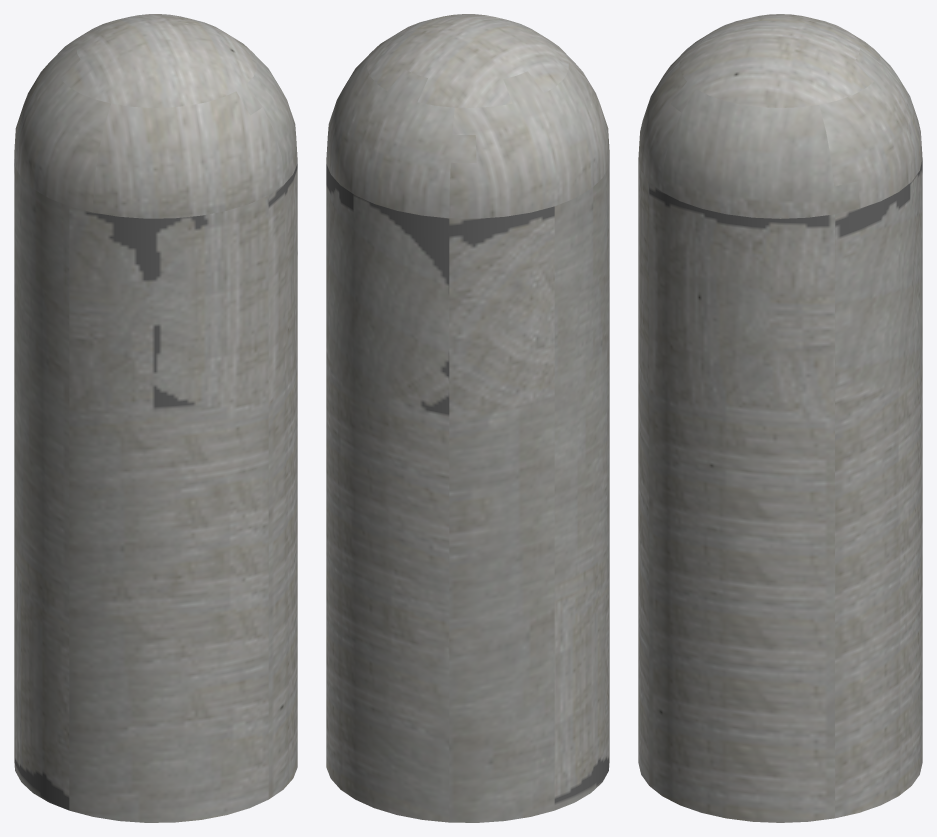
The model's file is silo.obj.
3 views of the same model, side by side, from view 1: azimuth 30°, elevation 25°; view 2: azimuth 150°, elevation 25°; view 3: azimuth 270°, elevation 25° (orthographic).
Parts seen in each view (by area): view 1: Silo_Cylinder; view 2: Silo_Cylinder; view 3: Silo_Cylinder.
Part boxes in pixels (x1,y1,x2,y2): Silo_Cylinder: [14, 14, 297, 822]; Silo_Cylinder: [326, 14, 609, 822]; Silo_Cylinder: [638, 14, 922, 822].
Bounding box in the file's own units: 11.54 × 32.95 × 11.54.
Materials: 1 (1 with a texture image).
